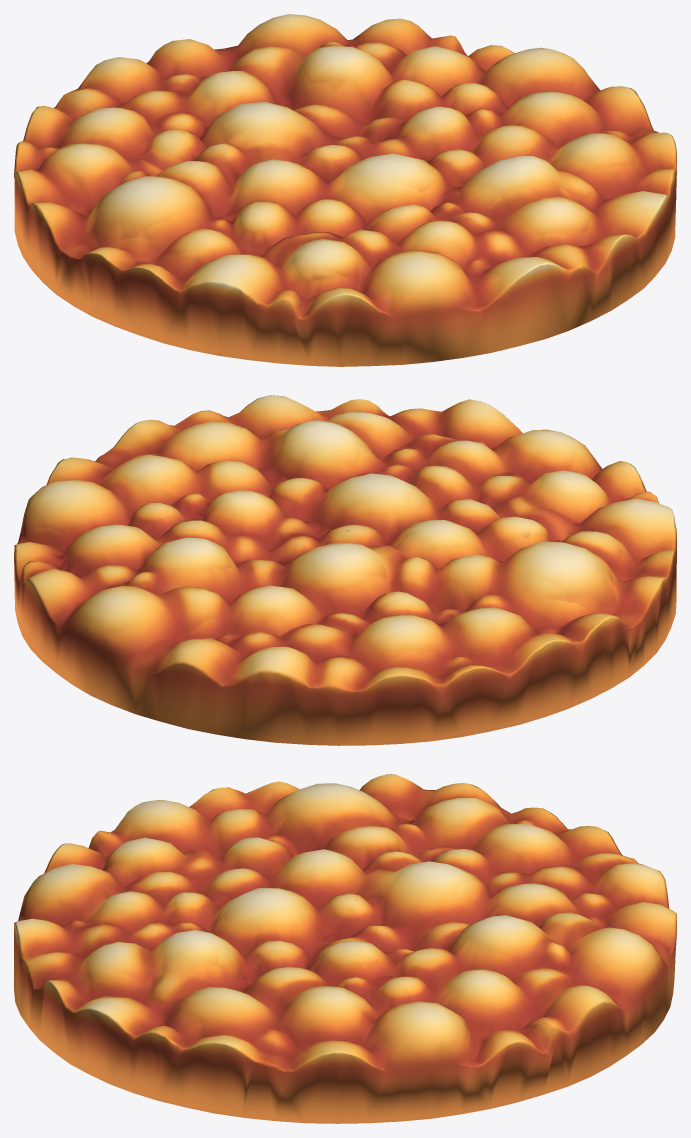
Rendered from solar-convection-bubbles.glb.
3 views of the same model, one above another, from view 1: azimuth 30°, elevation 25°; view 2: azimuth 150°, elevation 25°; view 3: azimuth 270°, elevation 25° (orthographic).
Parts seen in each view (by area): view 1: Solar Convection Bubble Field; view 2: Solar Convection Bubble Field; view 3: Solar Convection Bubble Field.
Boxes of the visible parts, left/top/right/bottom form: Solar Convection Bubble Field: left=14, top=14, right=676, bottom=366; Solar Convection Bubble Field: left=14, top=395, right=676, bottom=745; Solar Convection Bubble Field: left=14, top=774, right=676, bottom=1123.
Bounding box in the file's own units: 0.9941 × 0.166 × 0.998.
1 material, 1 textured.
